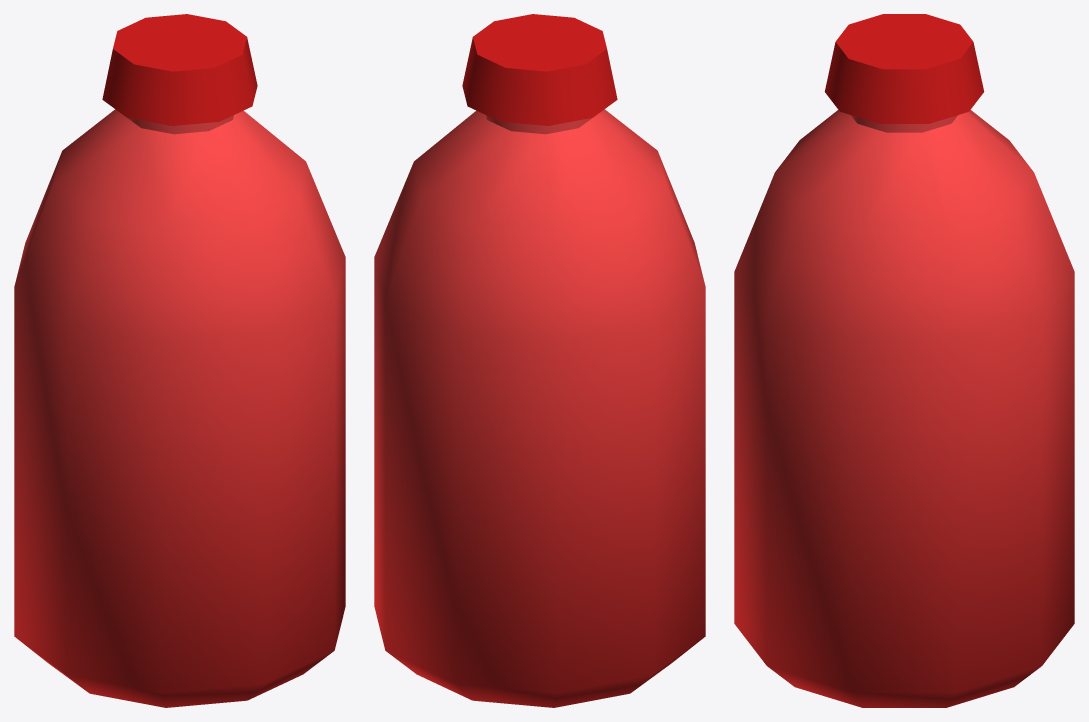
Rendered from bottle_big_red.fbx.
The picture shows the model from 3 angles, left to right: view 1: azimuth 30°, elevation 25°; view 2: azimuth 150°, elevation 25°; view 3: azimuth 270°, elevation 25°; orthographic projection.
Parts seen in each view (by area): view 1: bottle_big_red; view 2: bottle_big_red; view 3: bottle_big_red.
Boxes of the visible parts, left/top/right/bottom form: bottle_big_red: left=14, top=14, right=345, bottom=707; bottle_big_red: left=374, top=14, right=705, bottom=707; bottle_big_red: left=734, top=14, right=1074, bottom=707.
Size of the model in its own units: 190 by 397 by 200.
